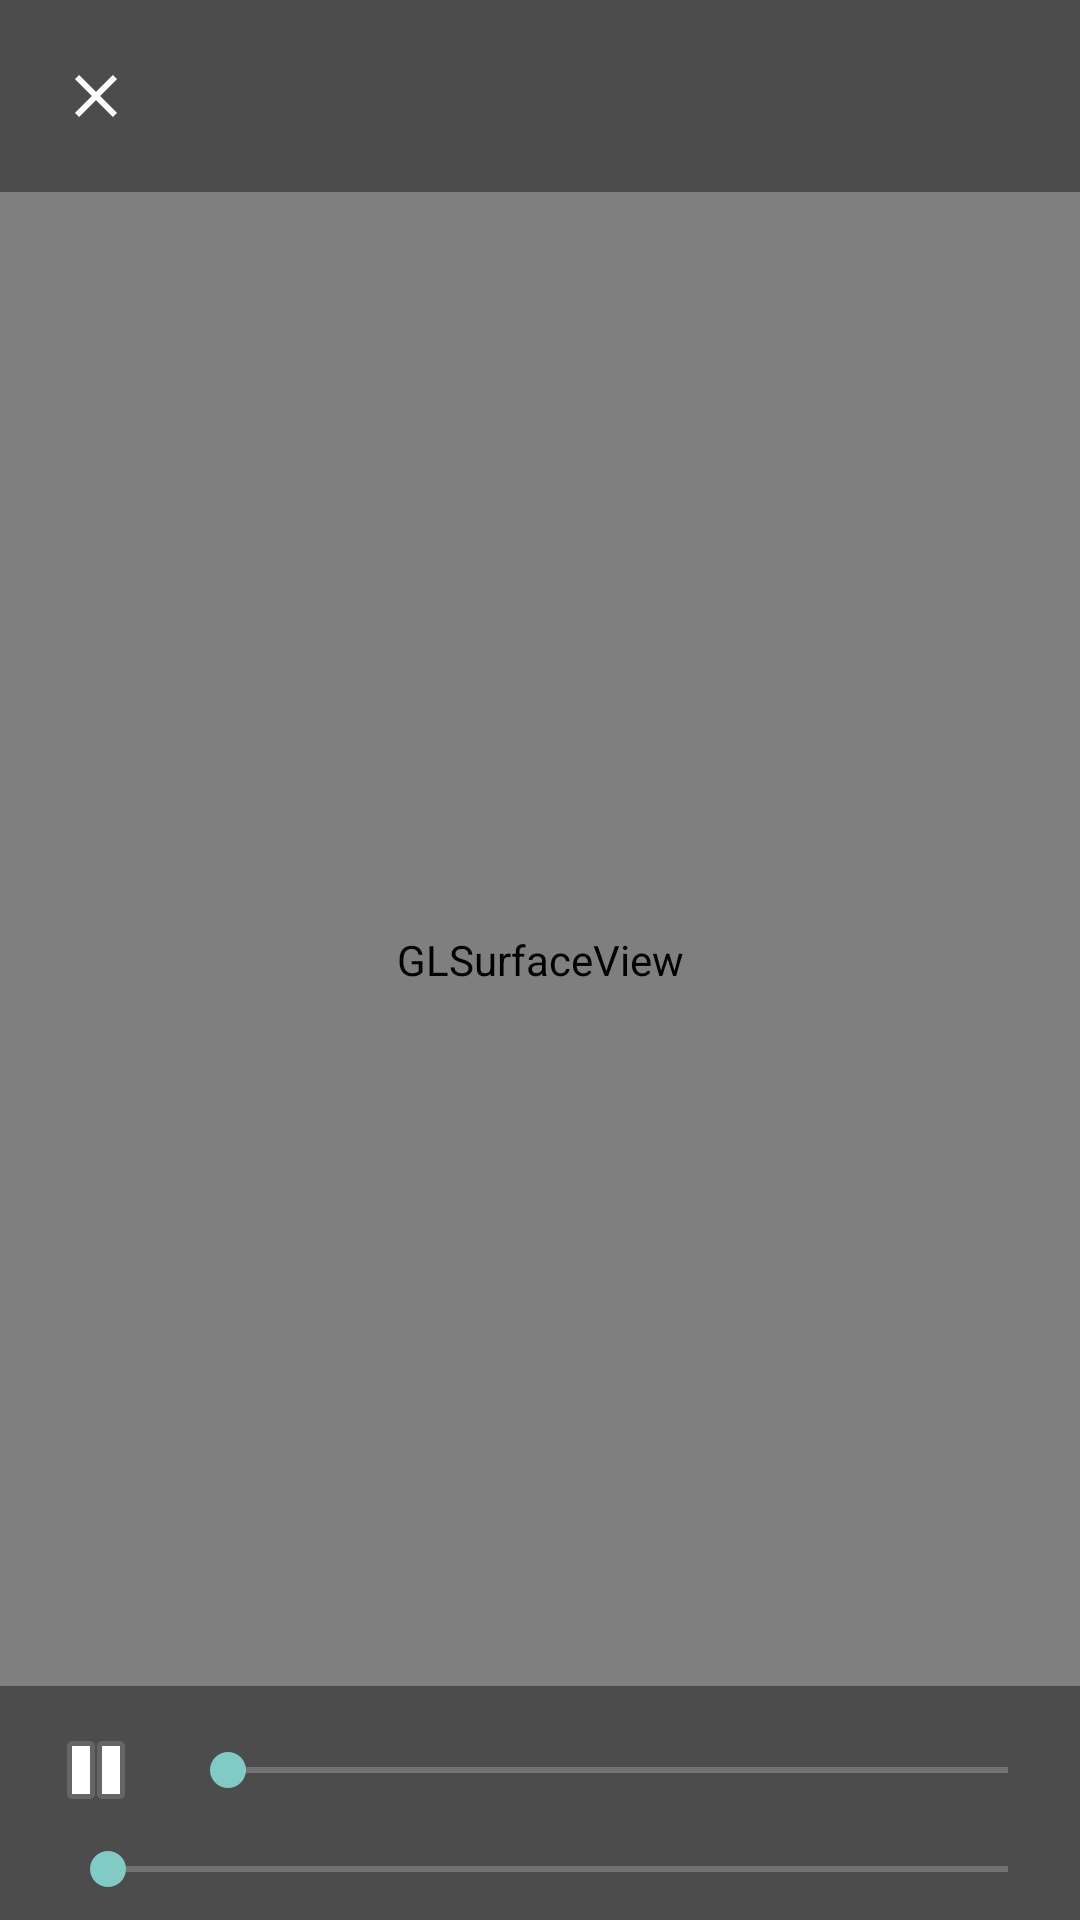

Locate icon controls on the screen. Image size 1080×1920, boxes as {"x1": x1, "y1": y1, "x2": x2, "y2": y2}.
Close: {"x1": 75, "y1": 75, "x2": 117, "y2": 117}
pause: {"x1": 67, "y1": 1741, "x2": 125, "y2": 1799}
